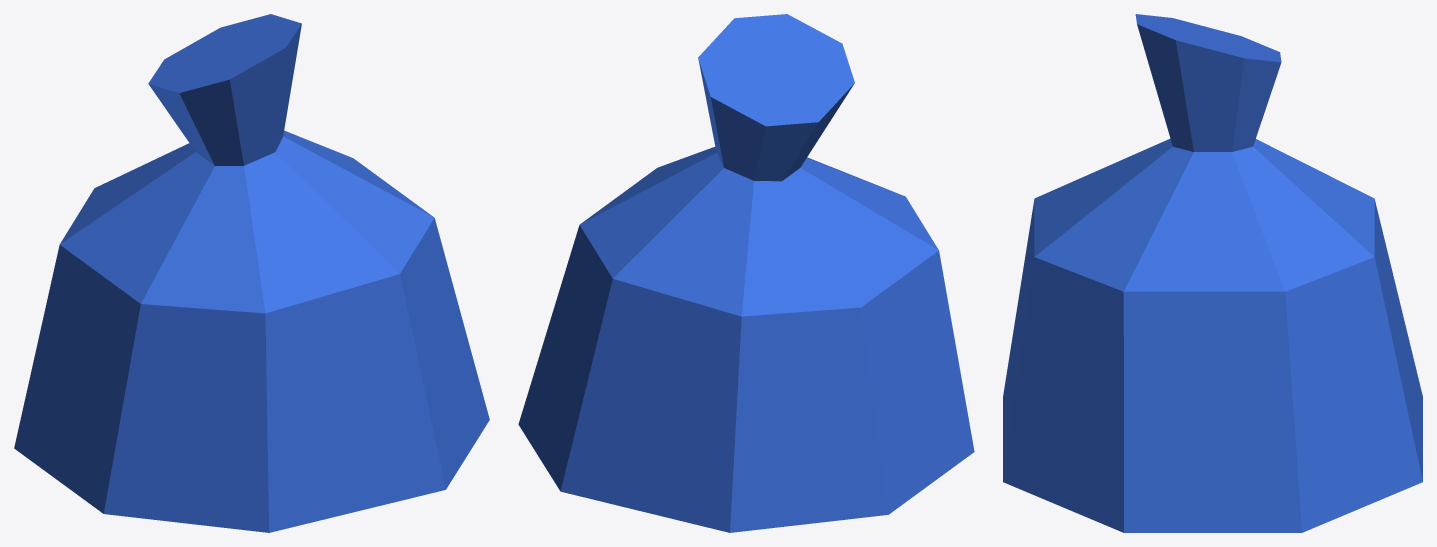
File: Collision_Bag_2.fbx
3 renders of one model, left to right at view 1: azimuth 30°, elevation 25°; view 2: azimuth 150°, elevation 25°; view 3: azimuth 270°, elevation 25°, orthographic. The views are drawn at different scales.
Parts seen in each view (by area): view 1: UCX_Bag_2_1, UCX_Bag_2_2; view 2: UCX_Bag_2_1, UCX_Bag_2_2; view 3: UCX_Bag_2_1, UCX_Bag_2_2.
Boxes of the visible parts, x1,y1,x2,y2 form: UCX_Bag_2_1: [14, 130, 489, 532]; UCX_Bag_2_2: [148, 14, 301, 165]; UCX_Bag_2_1: [518, 147, 974, 532]; UCX_Bag_2_2: [698, 14, 854, 181]; UCX_Bag_2_1: [1003, 138, 1422, 532]; UCX_Bag_2_2: [1135, 14, 1281, 151].
Bounding box in the file's own units: 69.89 × 72.06 × 66.19.
